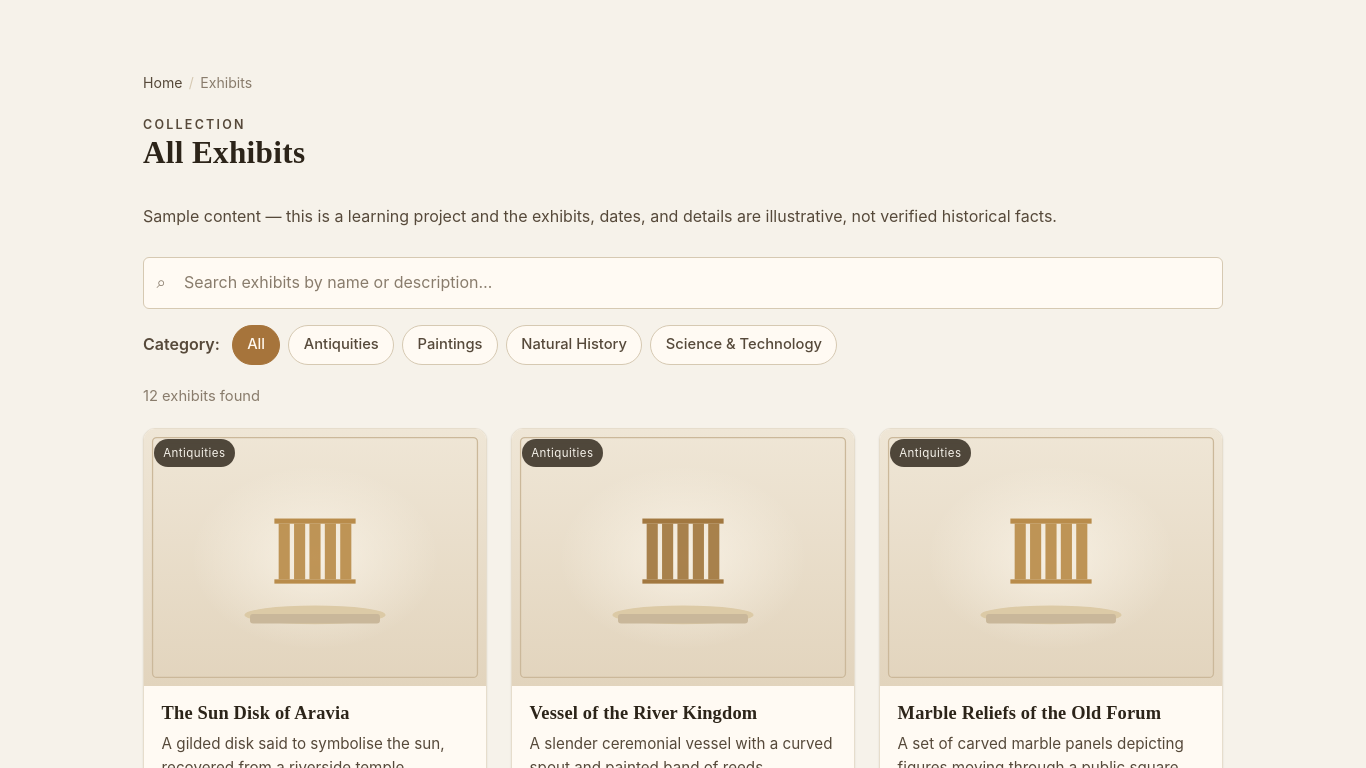
Test case: Exhibits page › filters by search and category together
Expected: the link "The Sun Disk of Aravia" is shown, 162,703 -> 350,723
In the search field labelled "Search exhibits by name or description…": coordinates (683, 283) 143,257 -> 1223,309, type "orrery"
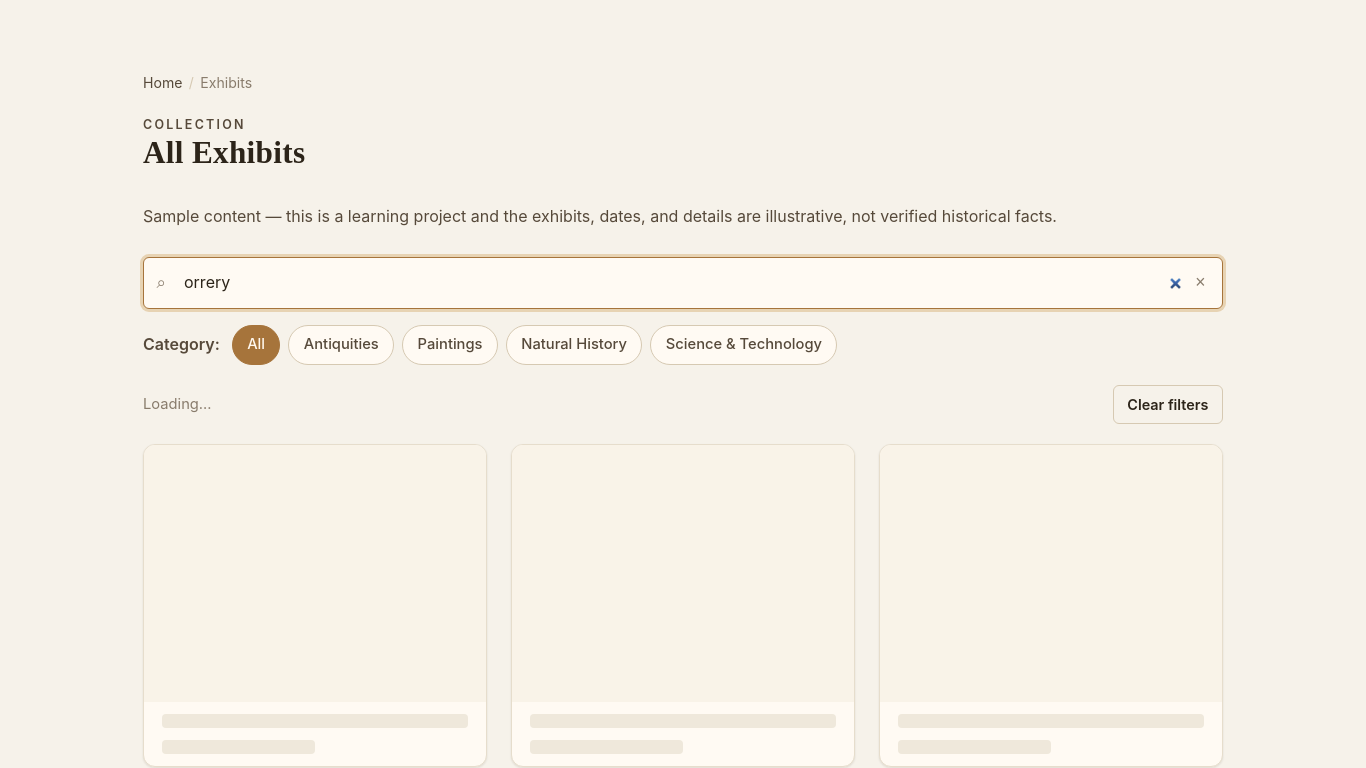
Click the button "Science & Technology": coordinates (744, 345) 650,325 -> 837,365
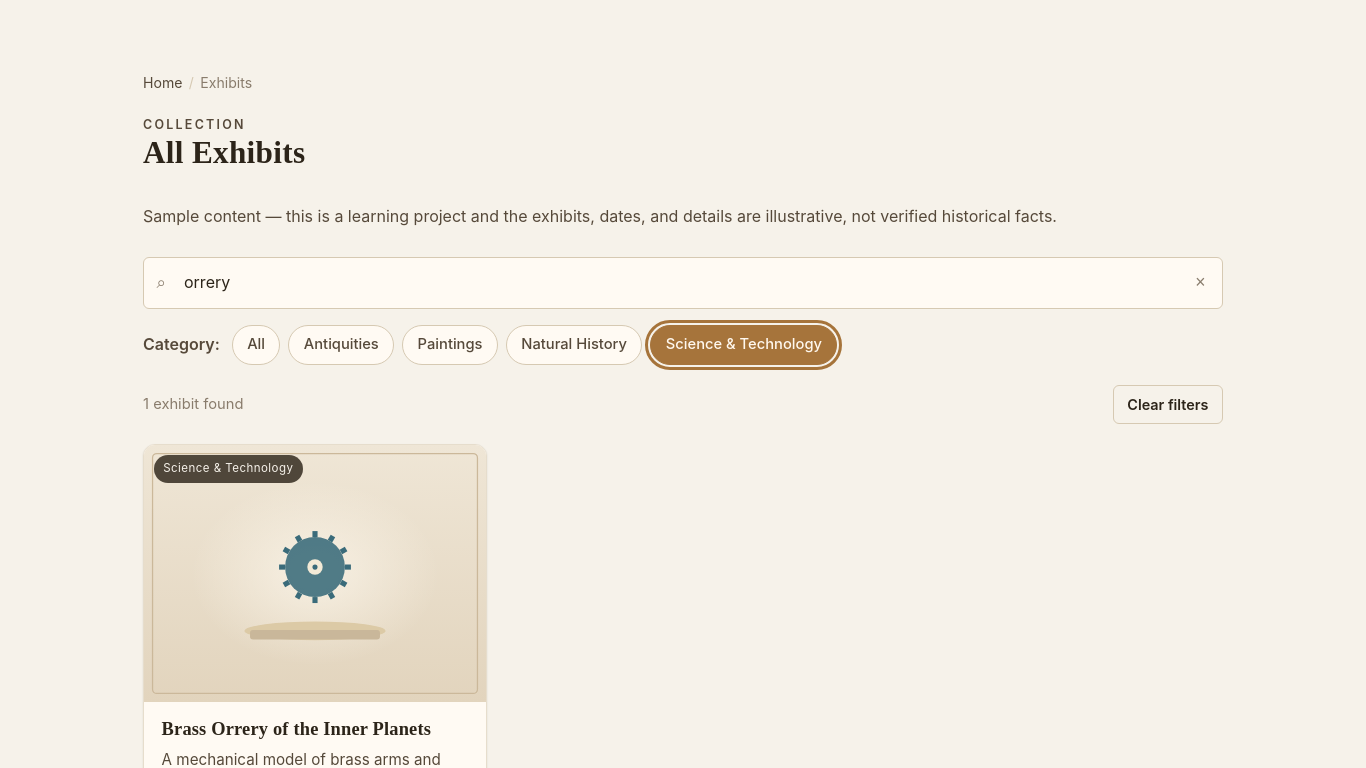
Expected: the link "Brass Orrery of the Inner Planets" is shown, 162,718 -> 431,738
